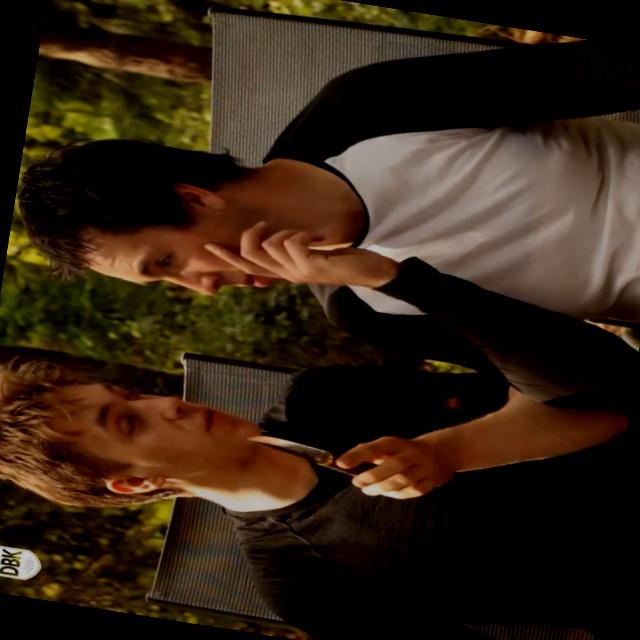knife: (224, 408, 460, 509)
